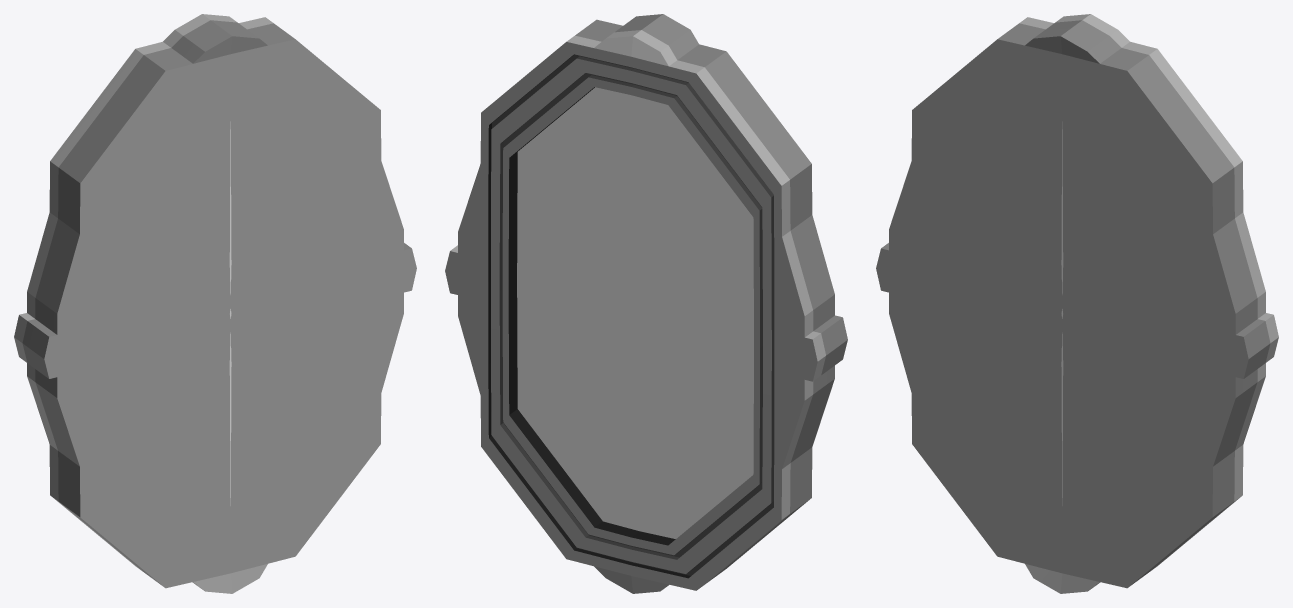
Rendered from MirrorModel.fbx.
The picture shows the model from 3 angles, left to right: view 1: azimuth 30°, elevation 25°; view 2: azimuth 150°, elevation 25°; view 3: azimuth 330°, elevation 25°; orthographic projection.
Visible parts, largest first — view 1: MirrorModel; view 2: MirrorModel; view 3: MirrorModel.
Part boxes in pixels (<box>): MirrorModel: <box>14,14,416,593</box>; MirrorModel: <box>445,14,847,593</box>; MirrorModel: <box>876,14,1278,593</box>.
Size of the model in its own units: 93.07 by 133 by 13.85.
